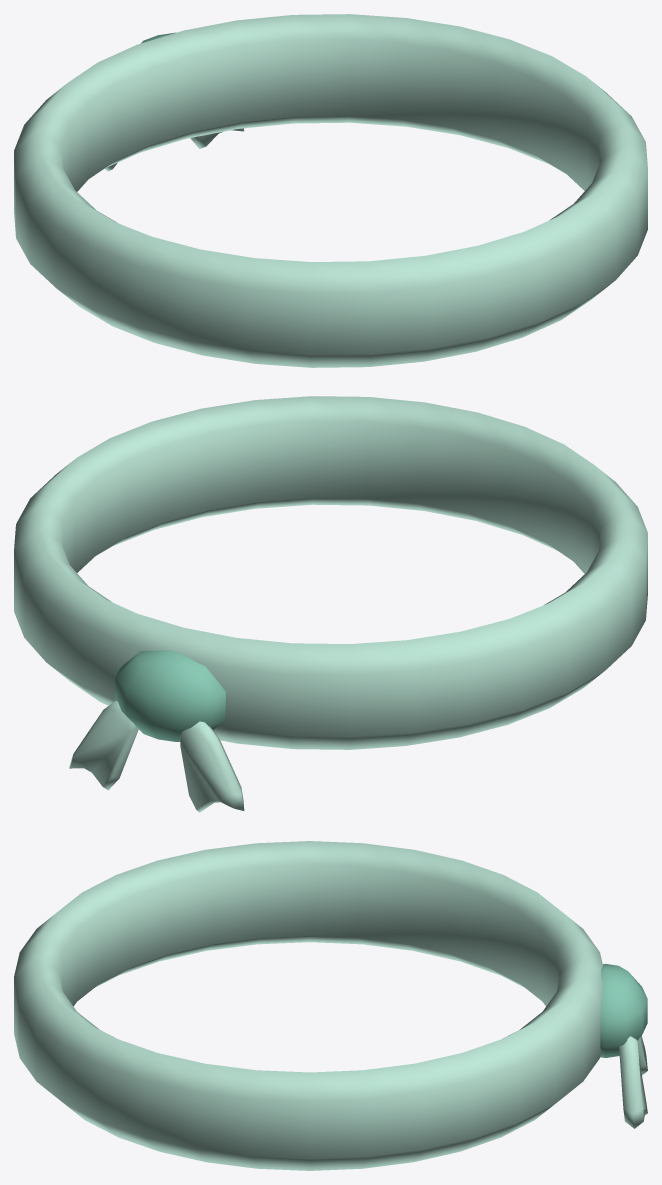
File: scarf_mint.glb
The picture shows the model from 3 angles, top to bottom: view 1: azimuth 30°, elevation 25°; view 2: azimuth 150°, elevation 25°; view 3: azimuth 270°, elevation 25°; orthographic projection. The views are drawn at different scales.
Visible parts, largest first — view 1: NeckRing; view 2: NeckRing, Knot, ShortTie, ShortTie.001; view 3: NeckRing, Knot, ShortTie.001.
Boxes of the visible parts, x1,y1,x2,y2 form: NeckRing: [14, 14, 647, 367]; NeckRing: [14, 396, 647, 749]; Knot: [115, 650, 225, 741]; ShortTie: [180, 721, 244, 812]; ShortTie.001: [69, 701, 138, 790]; NeckRing: [14, 841, 603, 1170]; Knot: [600, 963, 647, 1057]; ShortTie.001: [619, 1036, 647, 1128].
Size of the model in its own units: 0.188 by 0.0496 by 0.2014.
1 material, 1 textured.
